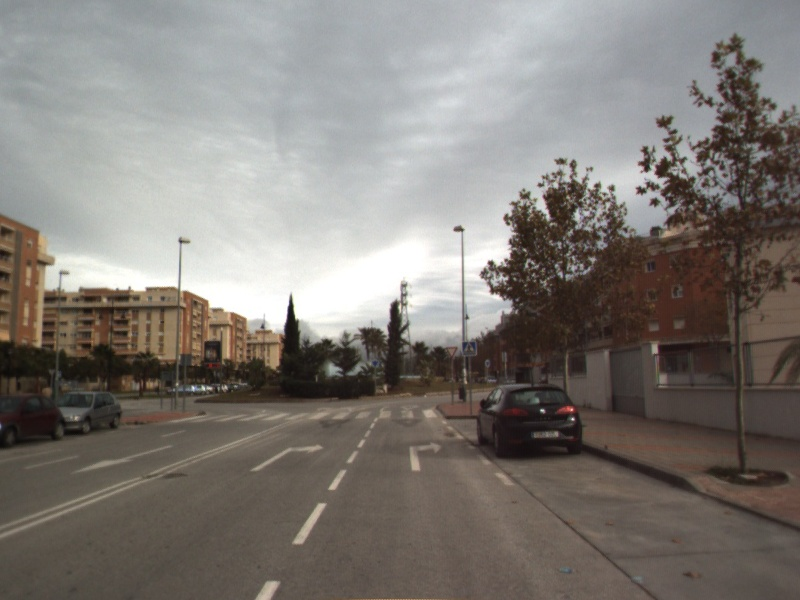RIGHT: (248, 442, 326, 473), (407, 439, 444, 473)
